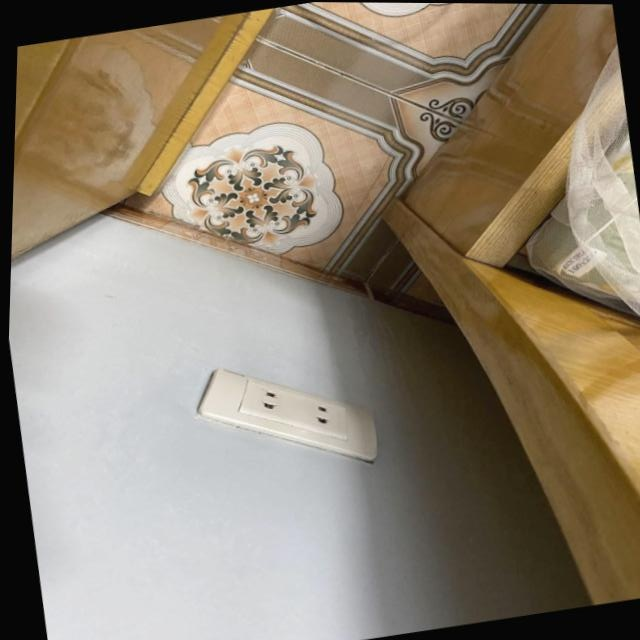outlet: (188, 345, 384, 489)
